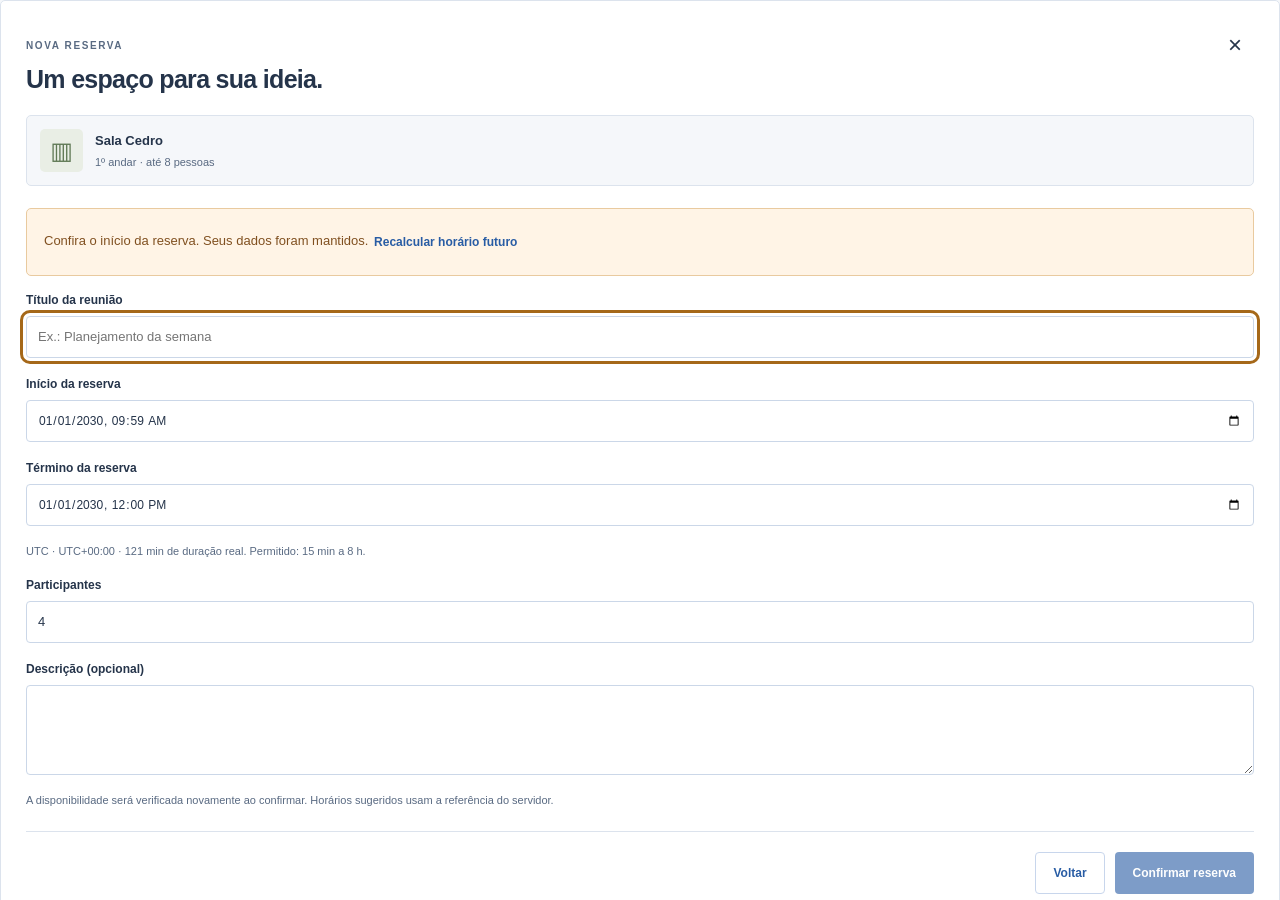
Test: reservation form states › recalculates an expired start without changing the title or participants
In the field labelled "Título da reunião": (640, 337) [26,316,1254,358], type "Planejamento"
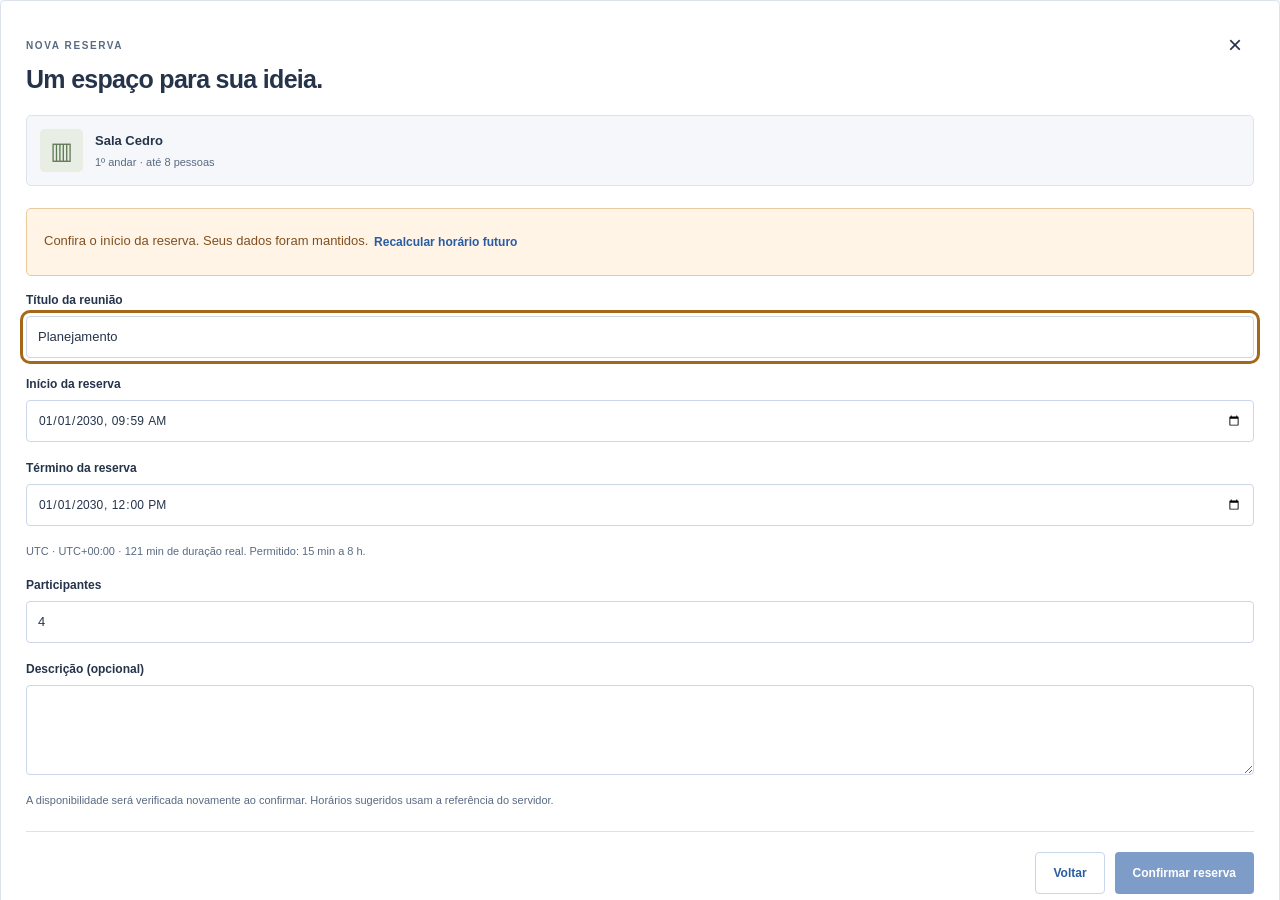
In the text box labelled "Descrição (opcional)": (640, 730) [26,685,1254,775], type "Pauta importante"
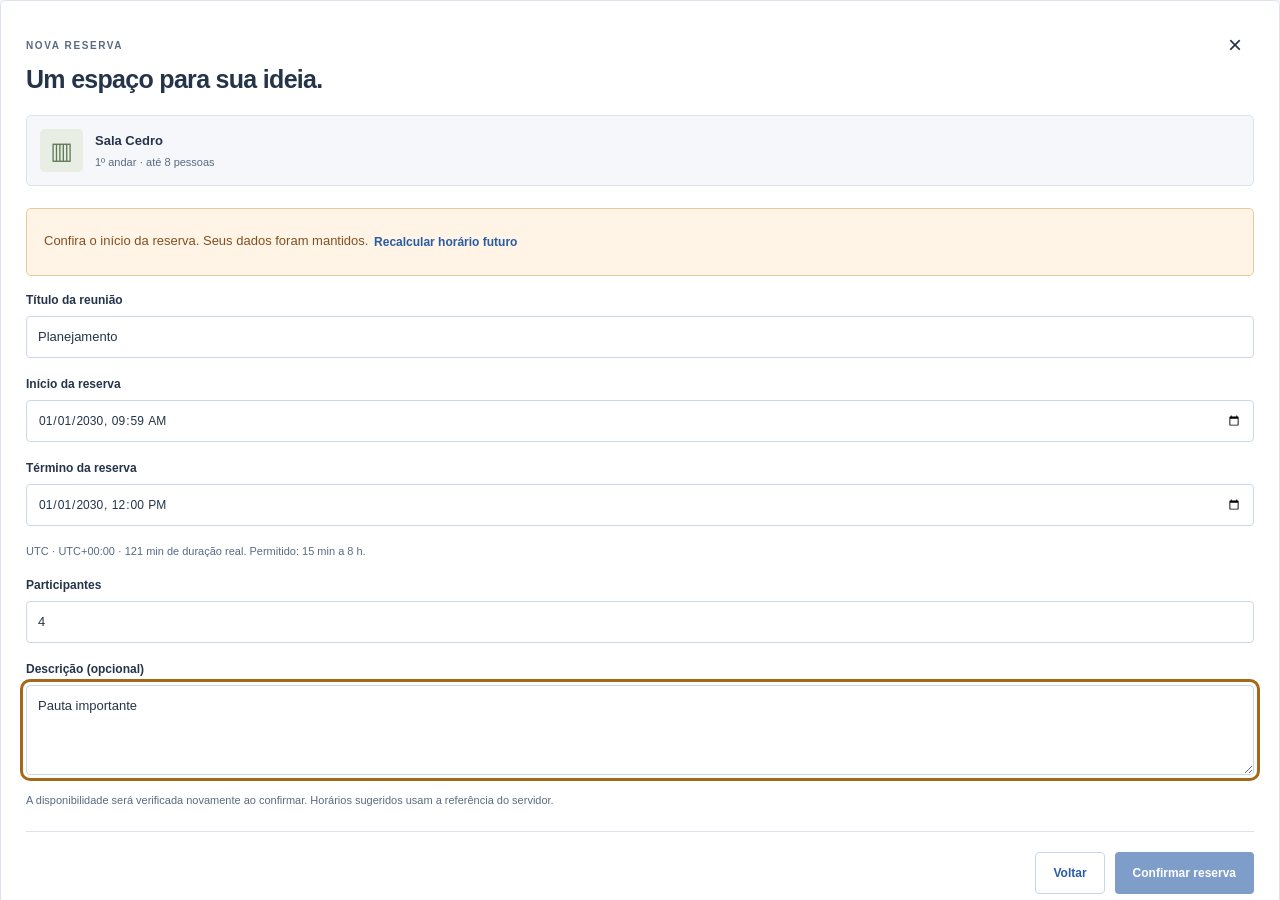
Expected: the button "Confirmar reserva" is disabled, [1115,852,1254,894]
Click the button "Recalcular horário futuro": (446, 242) [372,224,520,260]
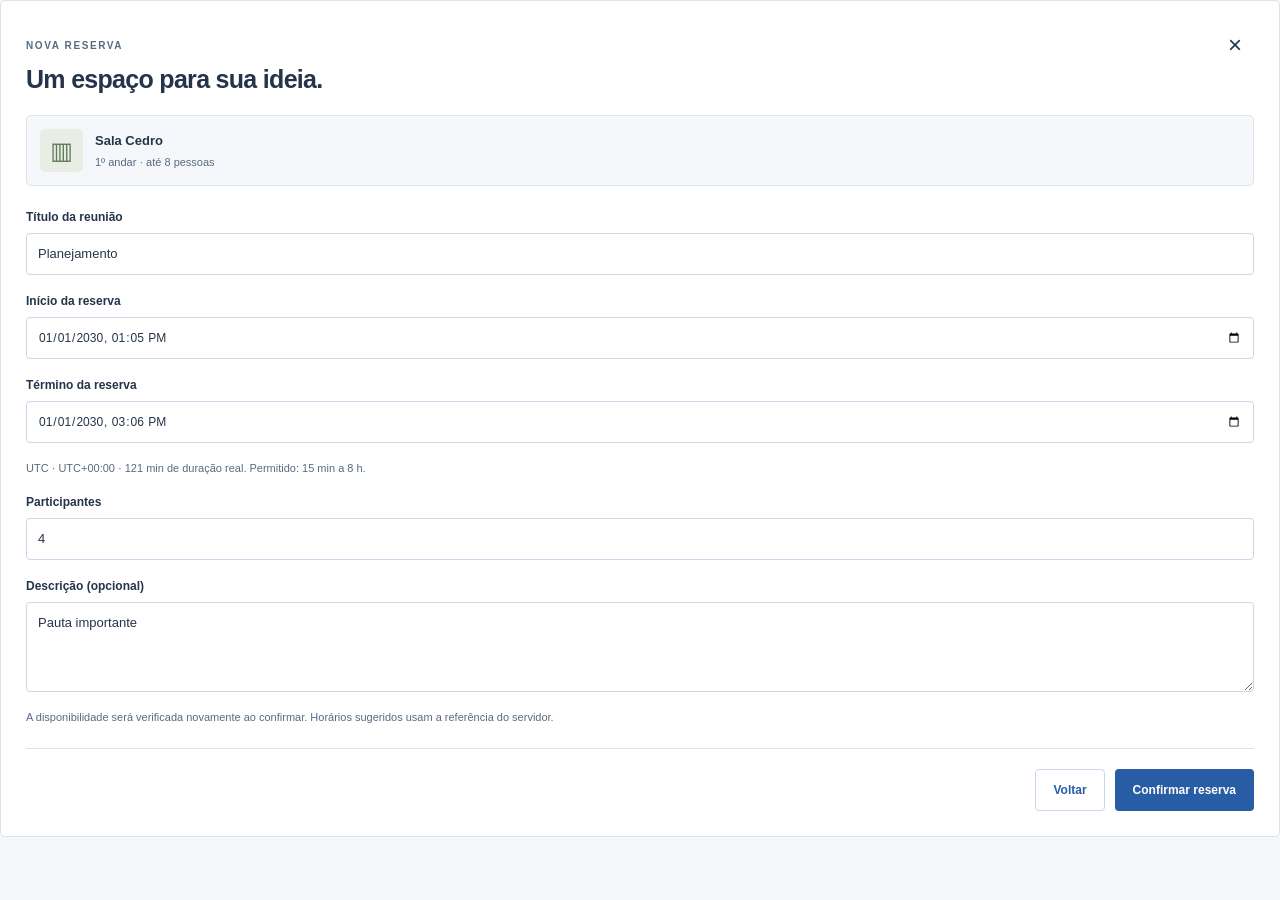
Expected: the number field labelled "Participantes" holds "4", [26,518,1254,560]
Now the field labelled "Início da reserva" holds "2030-01-01T13:05", box [26,317,1254,359]
Now the button "Confirmar reserva" is enabled, box [1115,769,1254,811]
